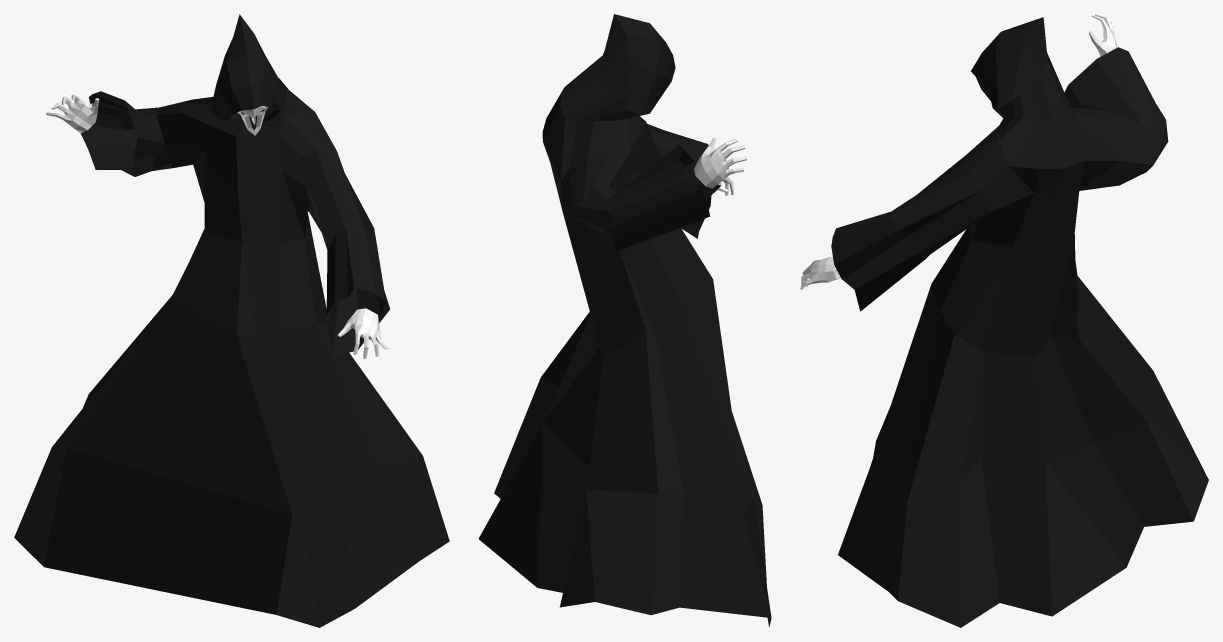
File: ReaperDead(3).obj
3 views of the same model, side by side, from view 1: azimuth 30°, elevation 25°; view 2: azimuth 150°, elevation 25°; view 3: azimuth 270°, elevation 25° (orthographic). The views are drawn at different scales.
Visible parts, largest first — view 1: Plane003; view 2: Plane003; view 3: Plane003.
Boxes of the visible parts, bbox=[...] form: Plane003: bbox=[14, 14, 449, 627]; Plane003: bbox=[478, 14, 771, 626]; Plane003: bbox=[800, 14, 1208, 627].
Size of the model in its own units: 144 by 216 by 146.
